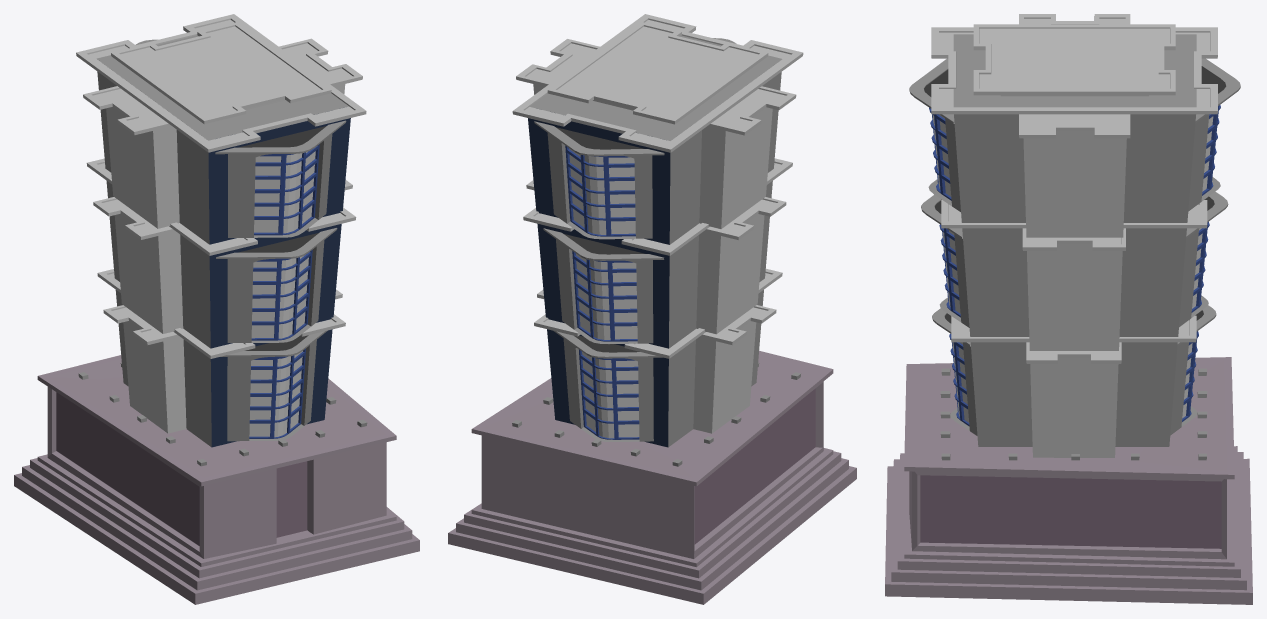
The model's file is Hotel Building#1.FBX.
3 views of the same model, side by side, from view 1: azimuth 30°, elevation 25°; view 2: azimuth 150°, elevation 25°; view 3: azimuth 270°, elevation 25° (orthographic). The views are drawn at different scales.
Visible parts, largest first — view 1: Hotel Building#1; view 2: Hotel Building#1; view 3: Hotel Building#1.
Boxes of the visible parts, x1,y1,x2,y2 form: Hotel Building#1: [14, 14, 419, 604]; Hotel Building#1: [448, 14, 856, 604]; Hotel Building#1: [885, 14, 1252, 604].
Bounding box in the file's own units: 23.31 × 38.88 × 27.02.
